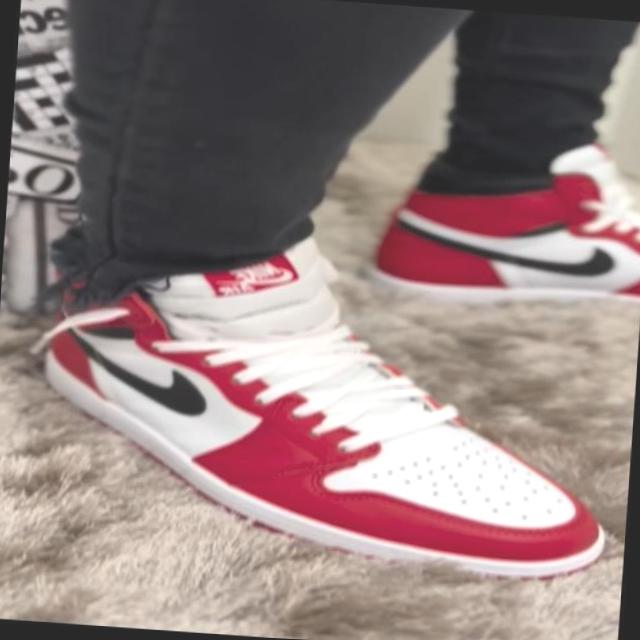nike_original_jordan: (0, 193, 625, 591)
